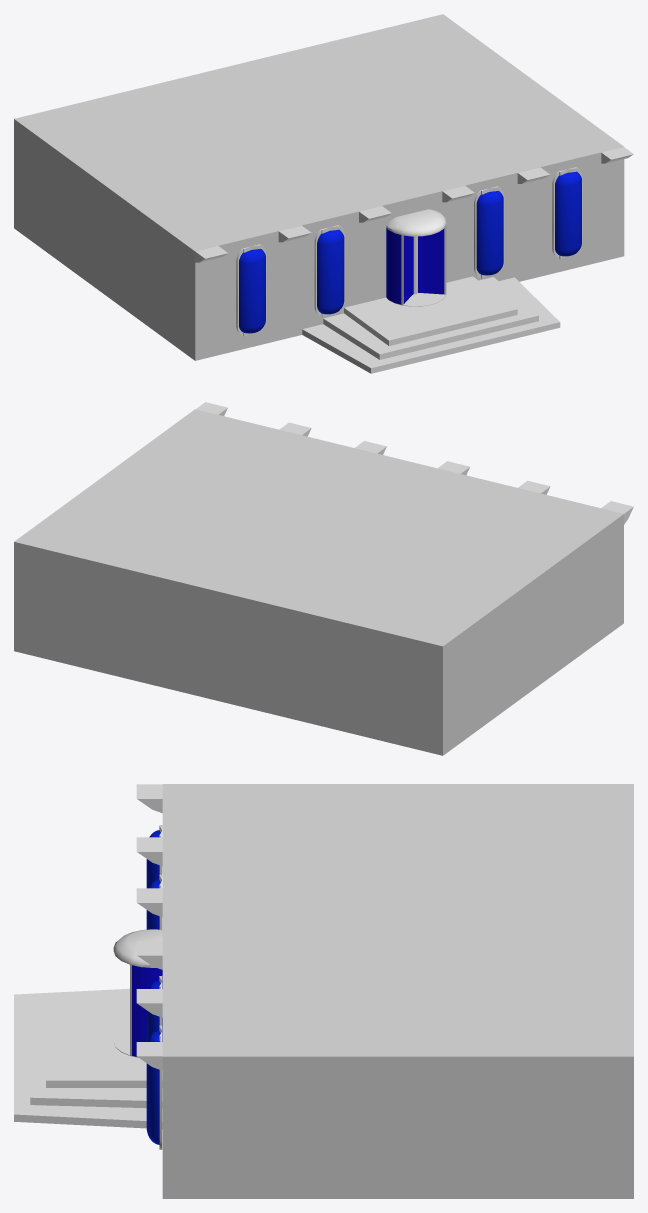
Rendered from Fancy Building Entrance.fbx.
3 views of the same model, one above another, from view 1: azimuth 30°, elevation 25°; view 2: azimuth 150°, elevation 25°; view 3: azimuth 270°, elevation 25° (orthographic). The views are drawn at different scales.
Parts seen in each view (by area): view 1: base, Big Steps, Elipse Windows, Cylinder.007, Cube.003; view 2: base, Cube.003; view 3: base, Big Steps, Cube.003, Cylinder.007, Elipse Windows.
Part boxes in pixels (x1,y1,x2,y2): base: (14, 14, 624, 360); Big Steps: (302, 276, 560, 373); Elipse Windows: (236, 167, 582, 336); Cylinder.007: (386, 209, 446, 306); Cube.003: (195, 147, 633, 262); base: (14, 409, 623, 755); Cube.003: (196, 402, 633, 524); base: (162, 784, 633, 1198); Big Steps: (14, 988, 162, 1128); Cube.003: (136, 784, 162, 1070); Cylinder.007: (113, 929, 162, 1057); Elipse Windows: (146, 825, 162, 1149).
Size of the model in its own units: 1600 by 390 by 1539.
